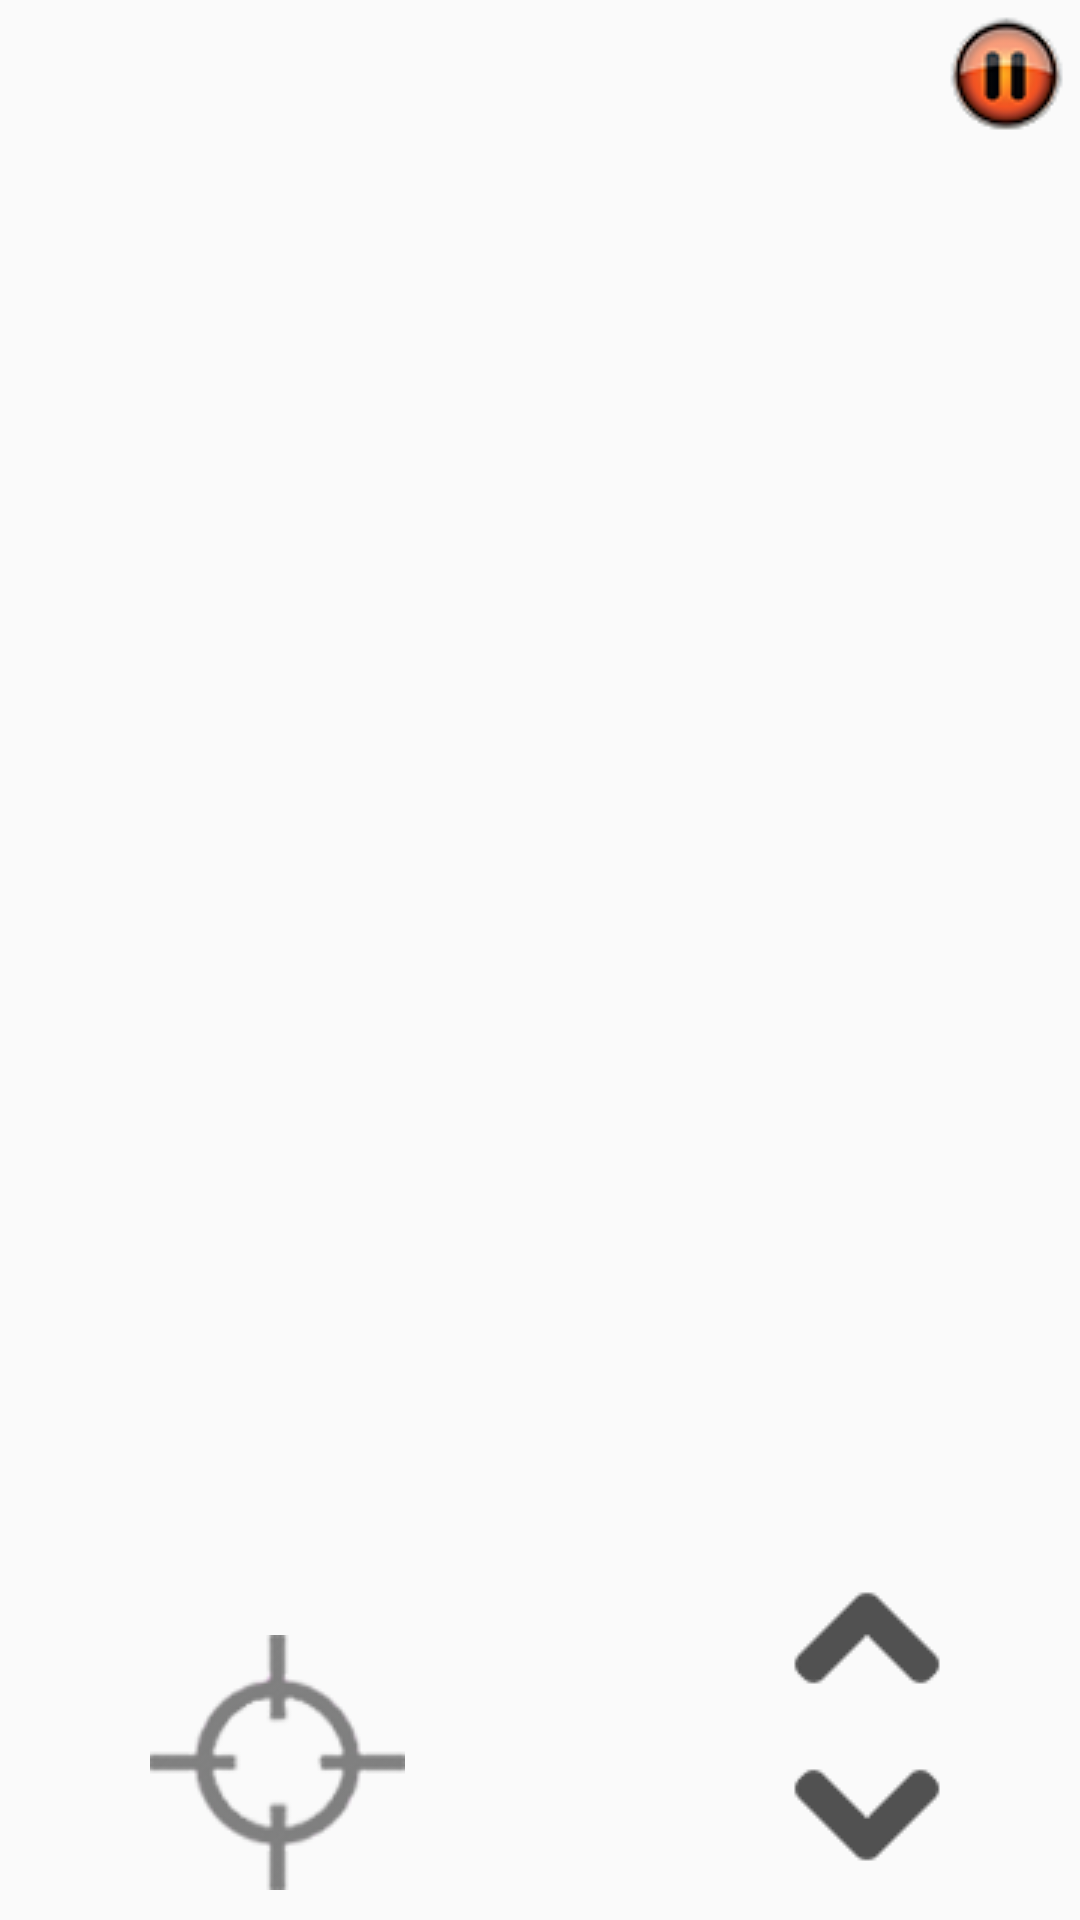

Named icons in this screenshot (1080px x 1920px) and their bounding boxes, (x1, y1, x2, y2):
down: (794, 1769, 940, 1861)
pause: (951, 18, 1062, 130)
shoot: (150, 1635, 405, 1890)
